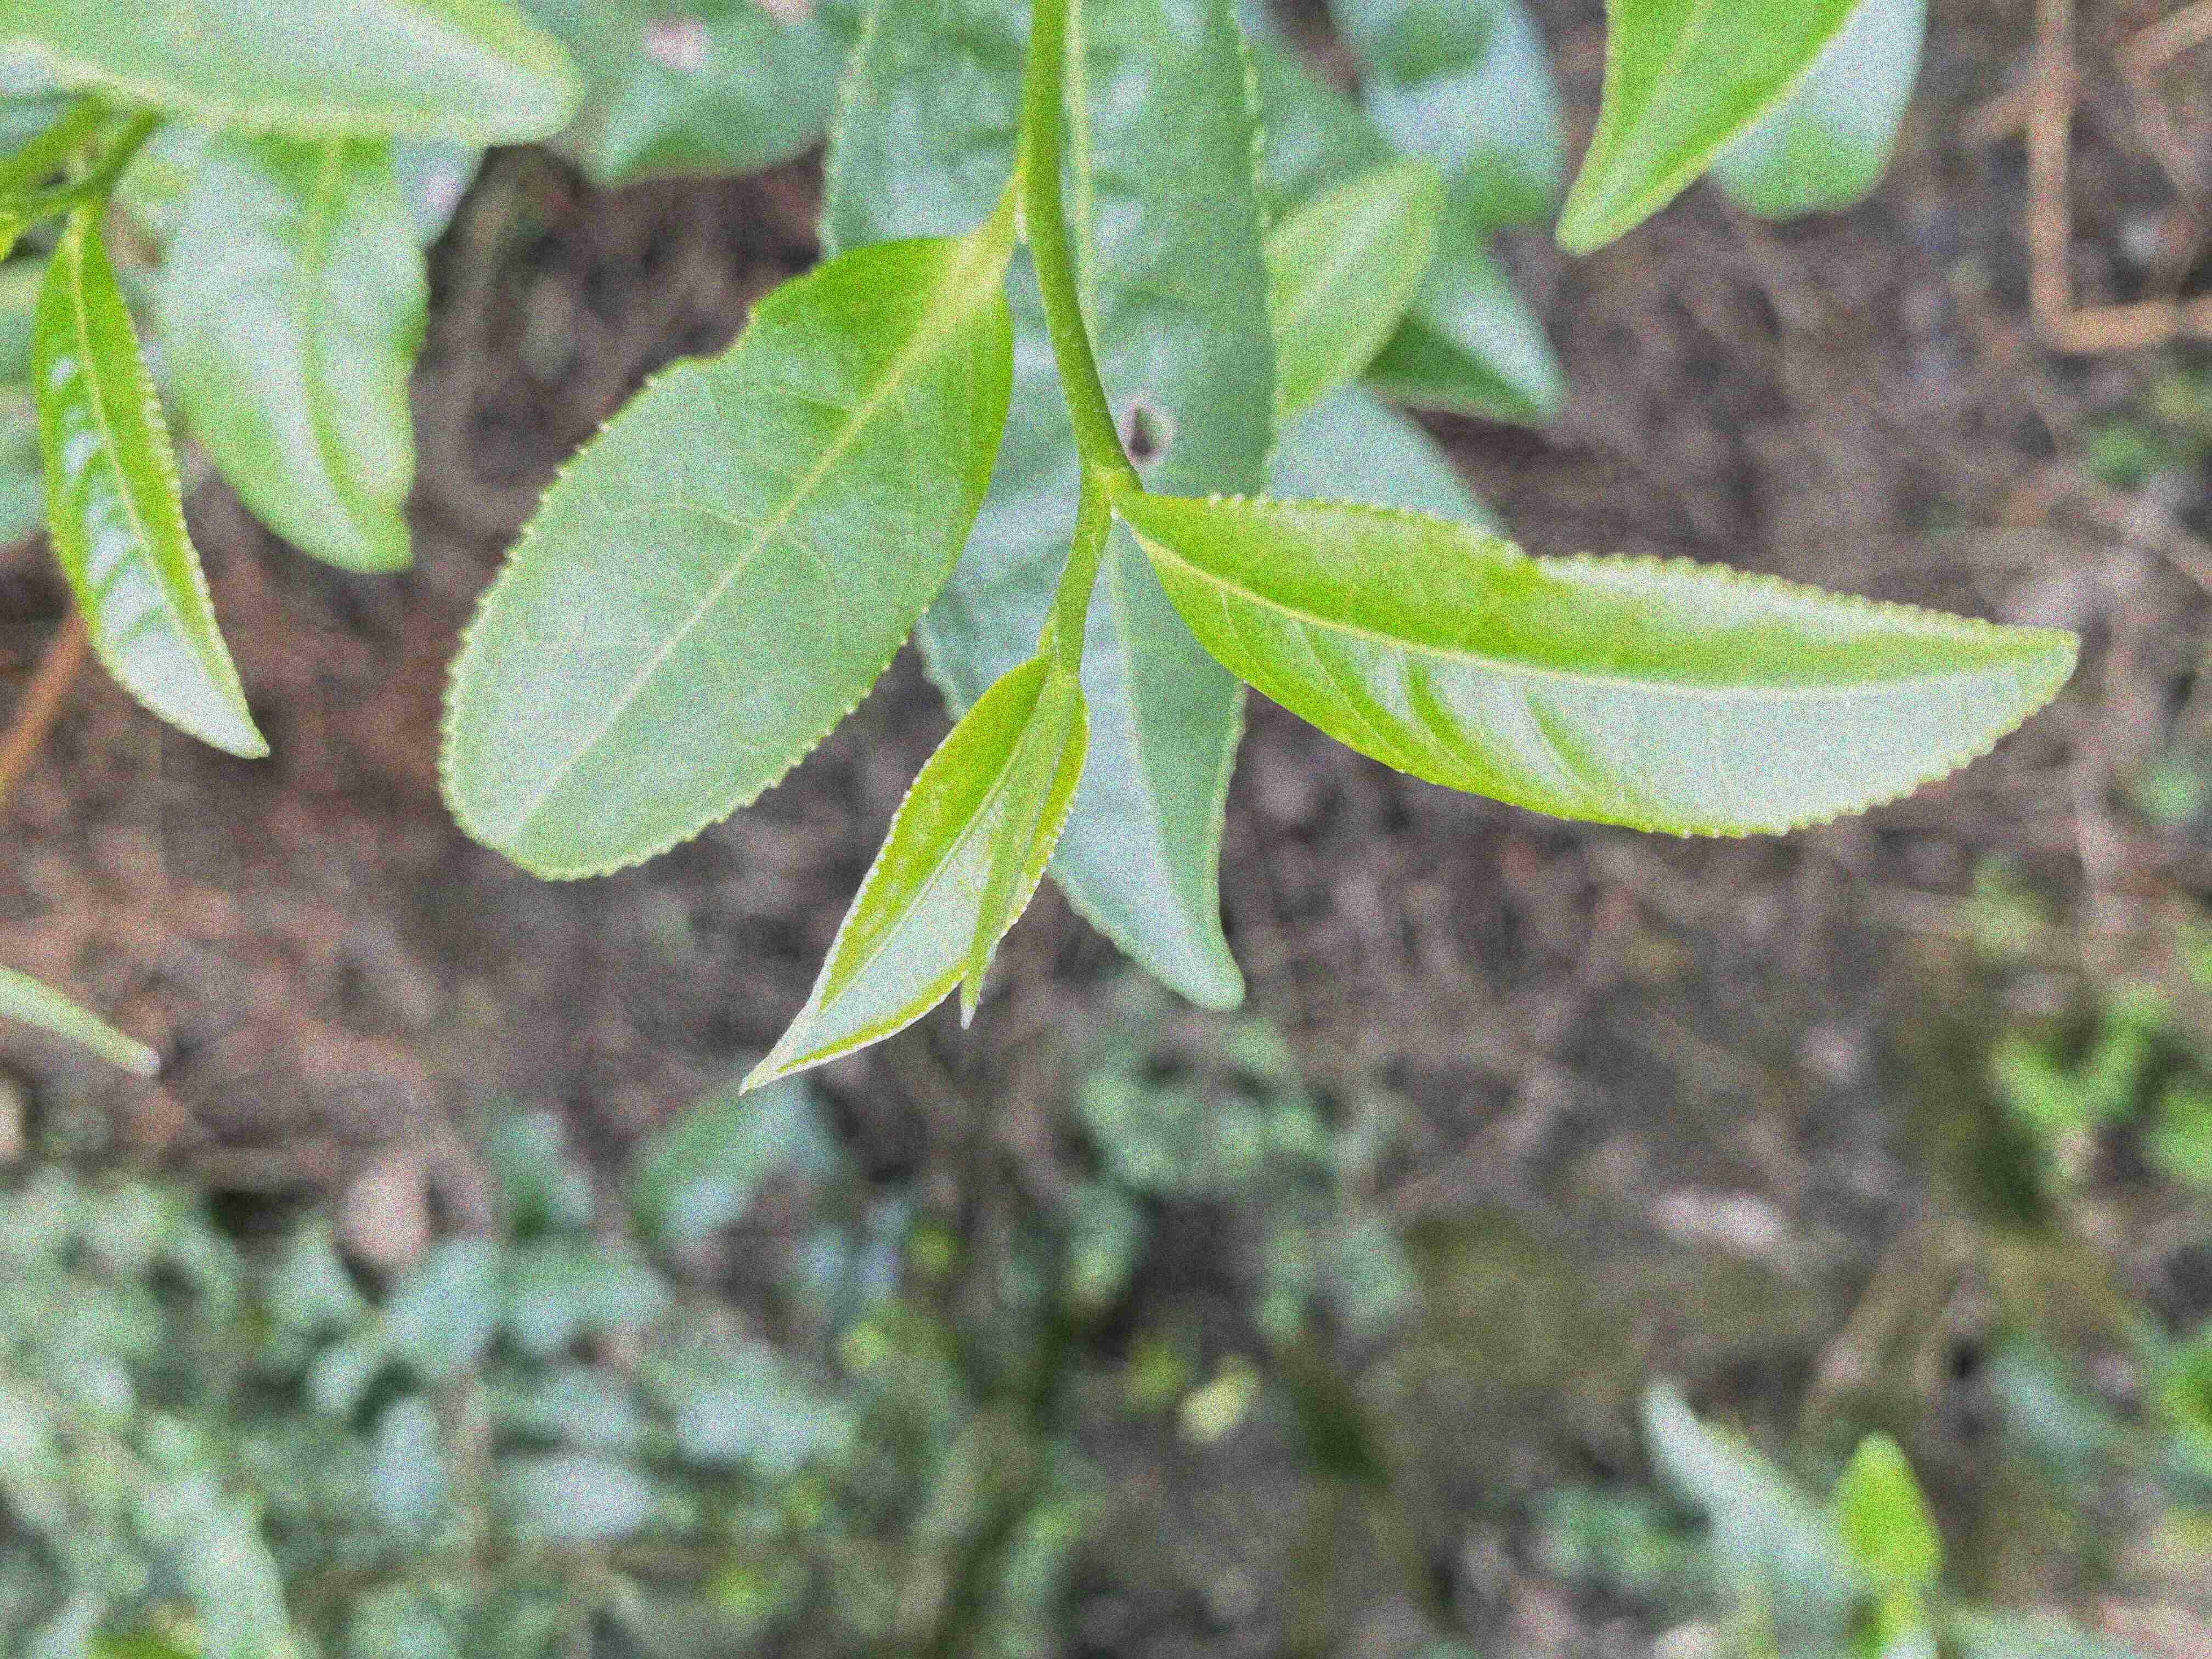chihuo_low: (808, 0, 1280, 1014), (439, 234, 1017, 884)
healthy: (1118, 488, 2085, 843), (737, 660, 1090, 1096), (24, 214, 279, 758)
